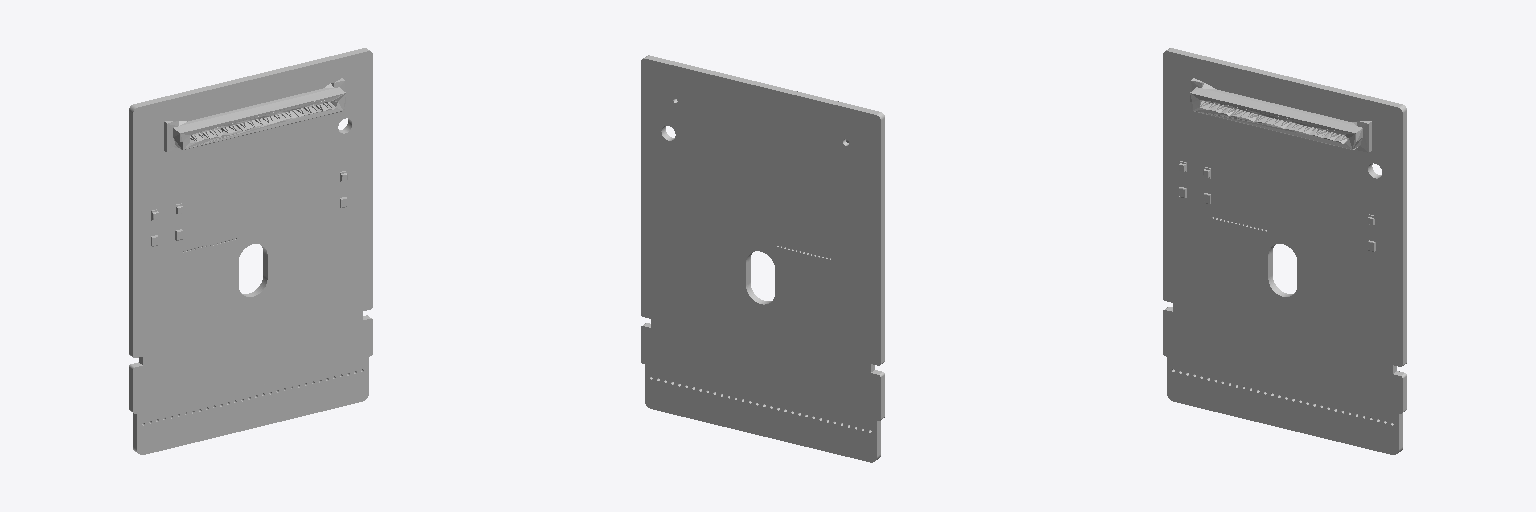
The model's file is gba-io-cart-slot-connector.obj.
3 renders of one model, left to right at view 1: azimuth 30°, elevation 25°; view 2: azimuth 150°, elevation 25°; view 3: azimuth 330°, elevation 25°, orthographic.
Bounding box in the file's own units: 50.97 × 70.88 × 5.35.